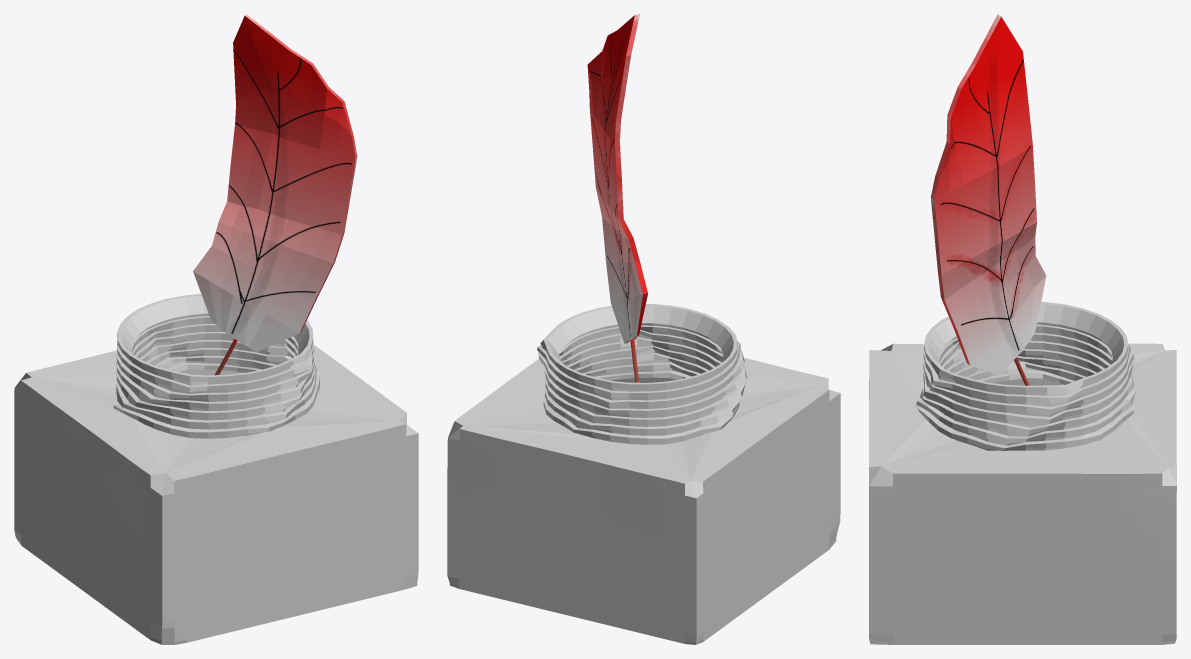
Rendered from tintero.fbx.
3 renders of one model, left to right at view 1: azimuth 30°, elevation 25°; view 2: azimuth 150°, elevation 25°; view 3: azimuth 270°, elevation 25°, orthographic. The views are drawn at different scales.
Visible parts, largest first — view 1: Cube, Plane.005; view 2: Cube, Plane.005; view 3: Cube, Plane.005.
Boxes of the visible parts, x1,y1,x2,y2 form: Cube: (14,294,418,644); Plane.005: (193,14,357,375); Cube: (447,304,840,644); Plane.005: (587,14,647,382); Cube: (869,301,1176,644); Plane.005: (930,14,1046,385).
Bounding box in the file's own units: 200 × 412 × 200.
Materials: 3 (1 with a texture image).
